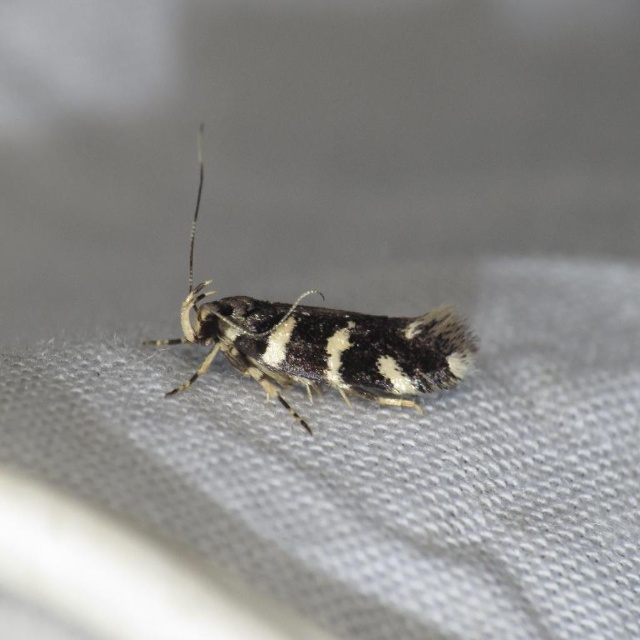Moths and butterflies: (142, 124, 486, 435)
